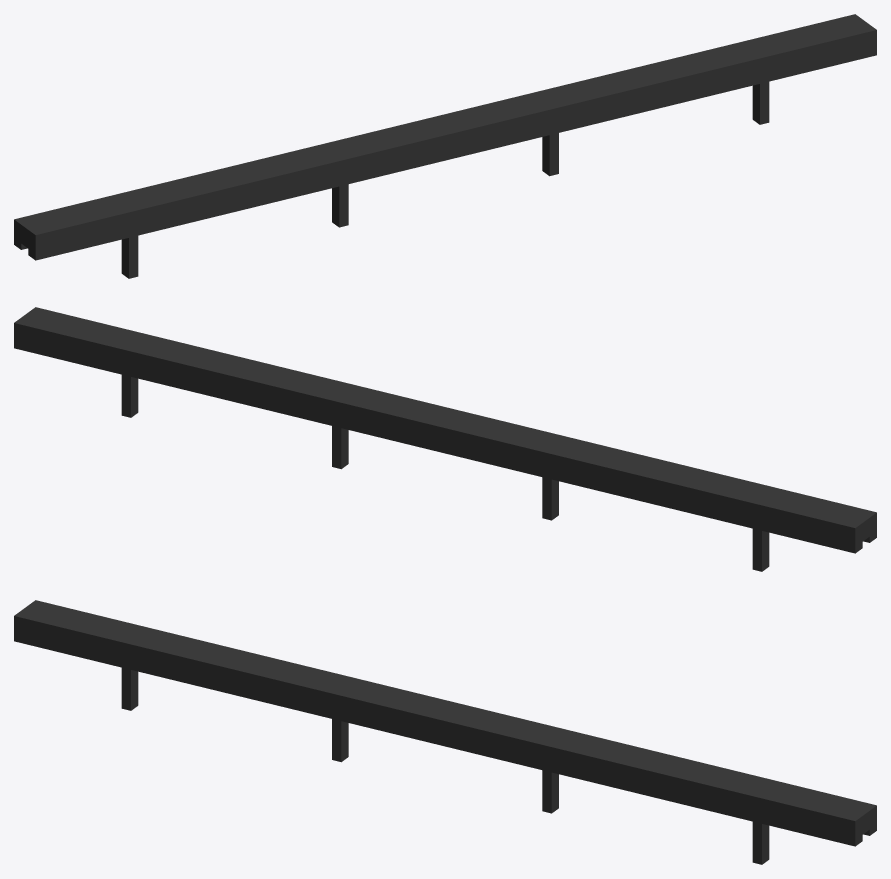
File: Light_Rail.fbx
3 views of the same model, one above another, from view 1: azimuth 30°, elevation 25°; view 2: azimuth 150°, elevation 25°; view 3: azimuth 330°, elevation 25° (orthographic).
Parts seen in each view (by area): view 1: pCube1; view 2: pCube1; view 3: pCube1.
Part boxes in pixels (x1,y1,x2,y2): pCube1: (14,14,876,278); pCube1: (14,307,876,571); pCube1: (14,600,876,864).
Size of the model in its own units: 1092 by 91.12 by 48.65.
Materials: 1 (1 with a texture image).
